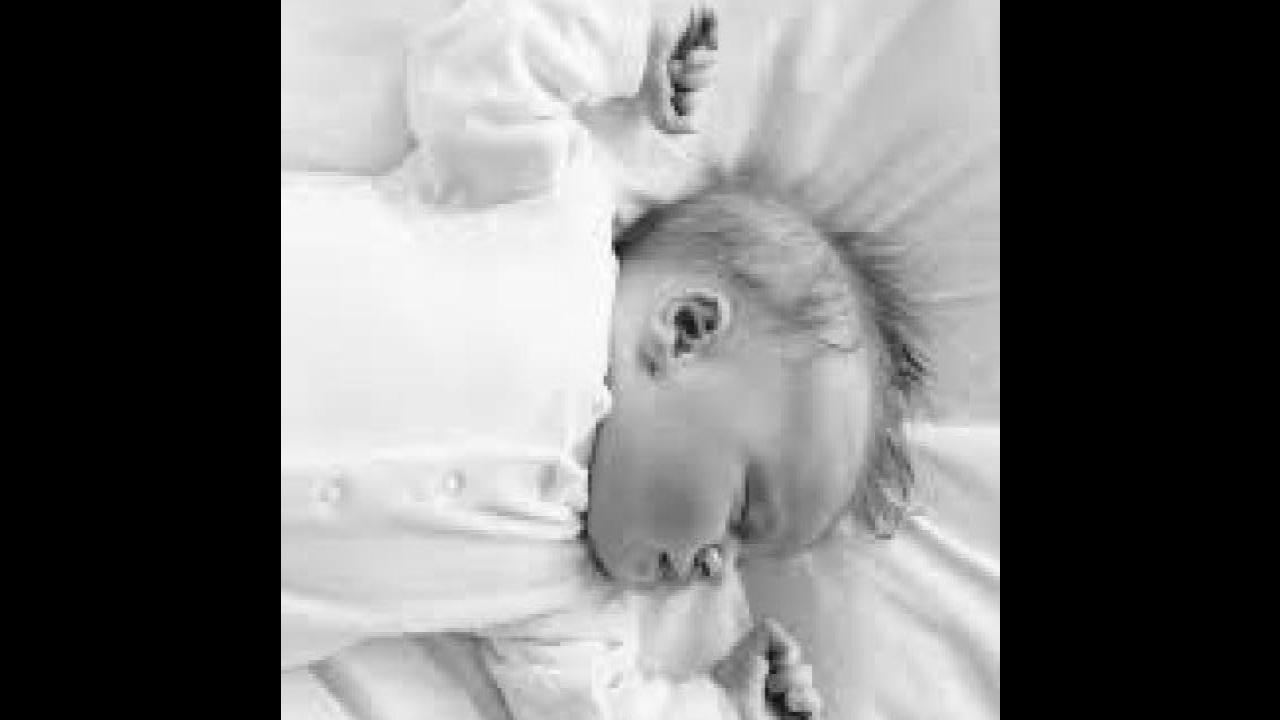hand: (651, 0, 719, 136), (736, 625, 825, 720)
